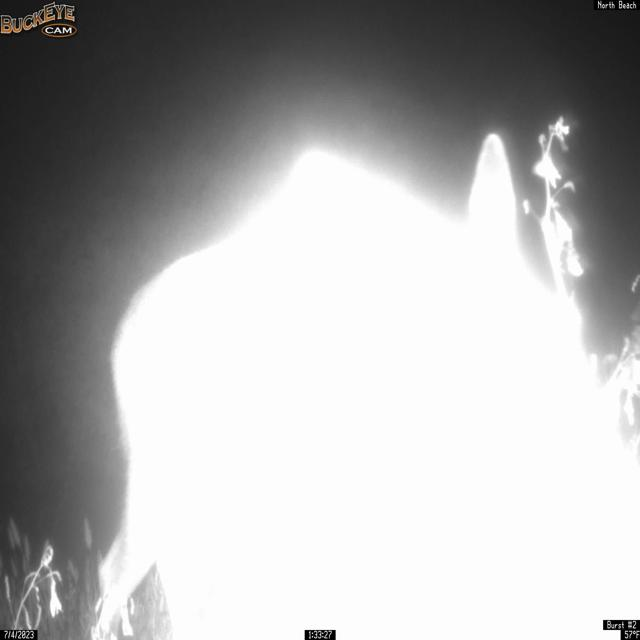deer: (92, 130, 640, 639)
